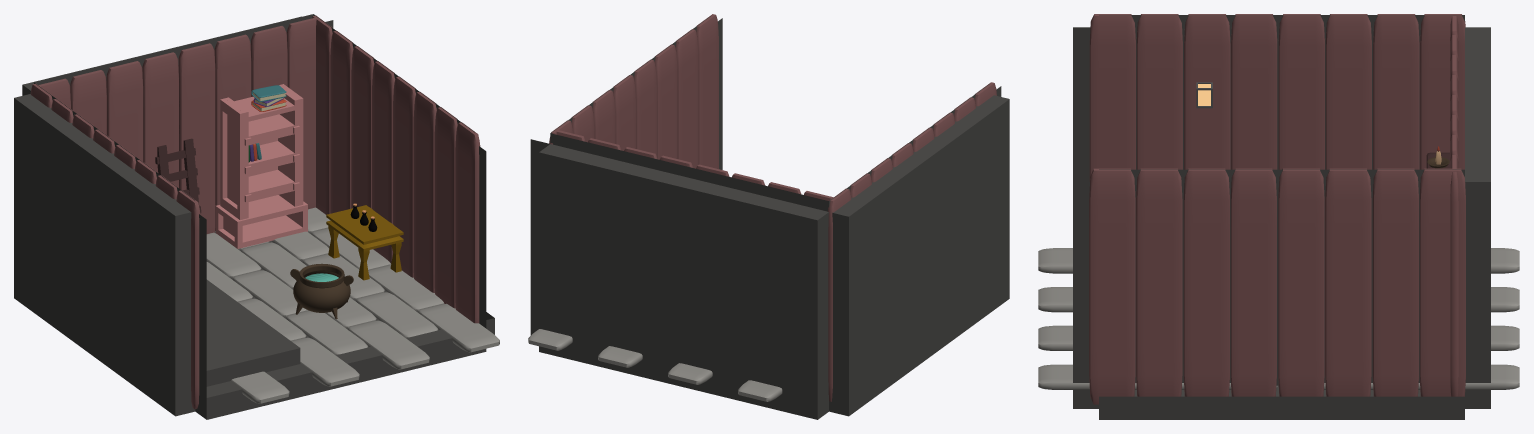
Rendered from sahne 1-2.fbx.
3 renders of one model, left to right at view 1: azimuth 30°, elevation 25°; view 2: azimuth 150°, elevation 25°; view 3: azimuth 270°, elevation 25°, orthographic. The views are drawn at different scales.
Visible parts, largest first — view 1: yer, duvarlar_2, duvarlar, parke, kitapllik_1, duvarlar_1, masa, kazan, merdiven; view 2: yer, duvarlar_2, duvarlar_1, parke, duvarlar; view 3: duvarlar_2, duvarlar_1, yer, parke, duvarlar, lamba.
Boxes of the visible parts, x1,y1,x2,y2 form: yer: (14,14,494,419); duvarlar_2: (312,15,480,323); duvarlar: (37,17,318,233); parke: (206,207,499,403); kitapllik_1: (215,84,307,248); duvarlar_1: (30,83,200,409); masa: (326,205,403,280); kazan: (290,263,353,312); merdiven: (155,138,201,213); yer: (530,16,1009,419); duvarlar_2: (549,14,718,169); duvarlar_1: (827,82,996,401); parke: (528,329,782,401); duvarlar: (555,130,834,200); duvarlar_2: (1089,168,1465,404); duvarlar_1: (1089,14,1465,181); yer: (1073,15,1490,419); parke: (1038,248,1519,389); duvarlar: (1450,15,1458,396); lamba: (1196,82,1212,108).
Bounding box in the file's own units: 228 × 144 × 263.
